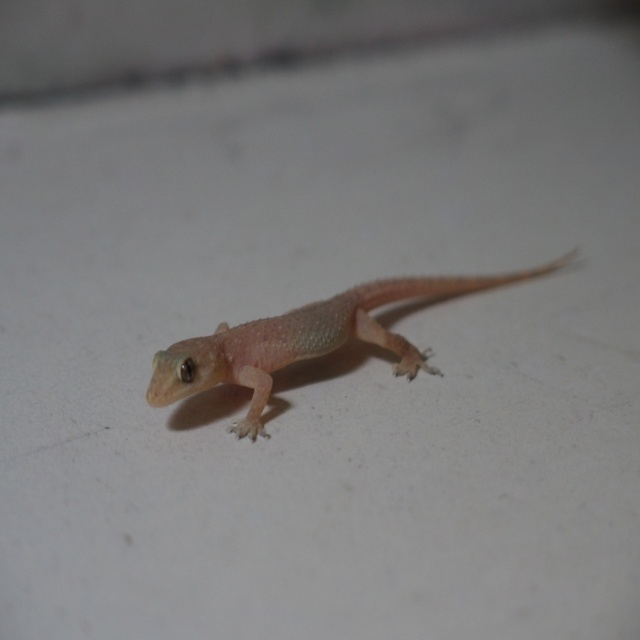Lizard: (148, 252, 577, 439)
